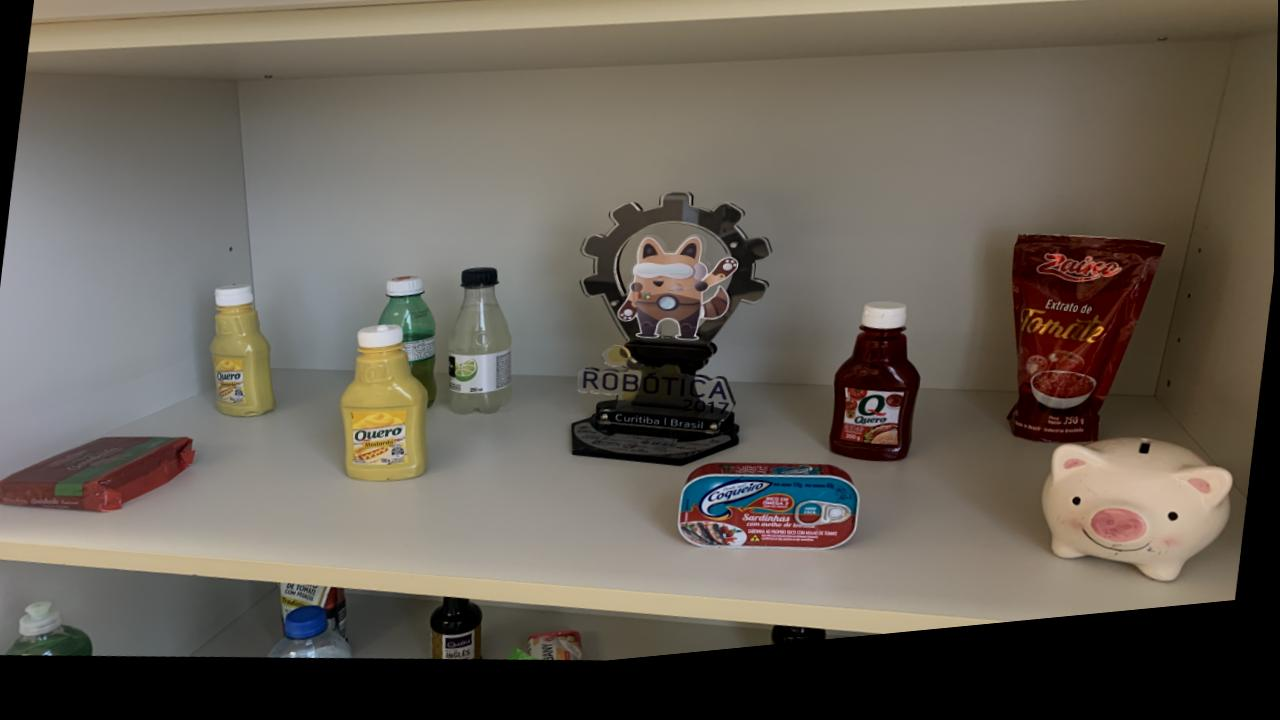Detergent-Cleanup_Items: (8, 602, 96, 658)
English_Sauce-Pantry_Items: (431, 606, 485, 669)
Guarana-Drinks: (379, 284, 439, 415)
Guava-Snacks: (0, 439, 196, 513)
Ketchup-Pantry_Items: (831, 320, 922, 479)
Mustard-Pantry_Items: (342, 332, 430, 489), (212, 288, 276, 421)
Pig_Safe-Miscellaneous: (1043, 460, 1234, 605)
Soap-Cleanup_Items: (528, 641, 585, 672), (510, 659, 530, 669)
Soda-Drinks: (449, 277, 514, 424)
Tomato_Sauce-Pantry_Items: (1009, 255, 1166, 466), (281, 588, 349, 644)
Trophy-Miscellaneous: (572, 207, 771, 479)
Tuna_Can-Pantry_Items: (679, 478, 862, 566)
Water_Bottle-Drinks: (269, 611, 354, 665)
